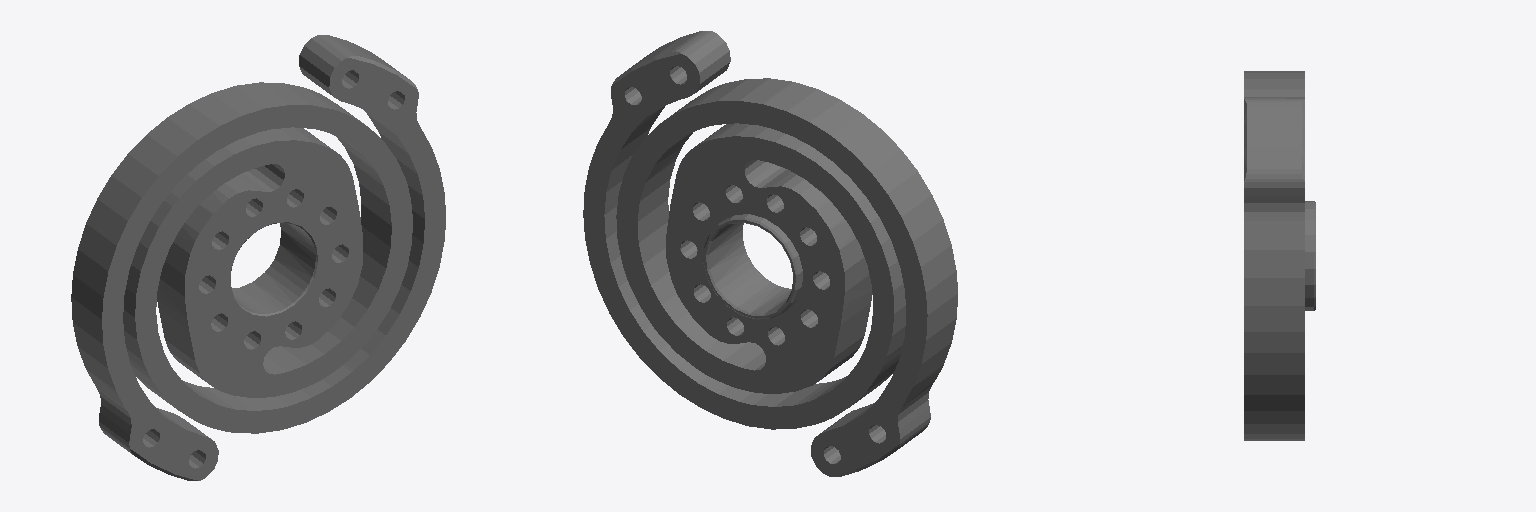
The picture shows the model from 3 angles: view 1: azimuth 30°, elevation 25°; view 2: azimuth 150°, elevation 25°; view 3: azimuth 270°, elevation 25°; orthographic projection.
Visible parts, largest first — view 1: link1; view 2: link1; view 3: link1.
Boxes of the visible parts, box(x1,y1,x2,y2) form: link1: box(71, 35, 445, 480); link1: box(583, 31, 957, 476); link1: box(1244, 71, 1315, 440).
Bounding box in the file's own units: 0.0648 × 0.0696 × 0.0118.